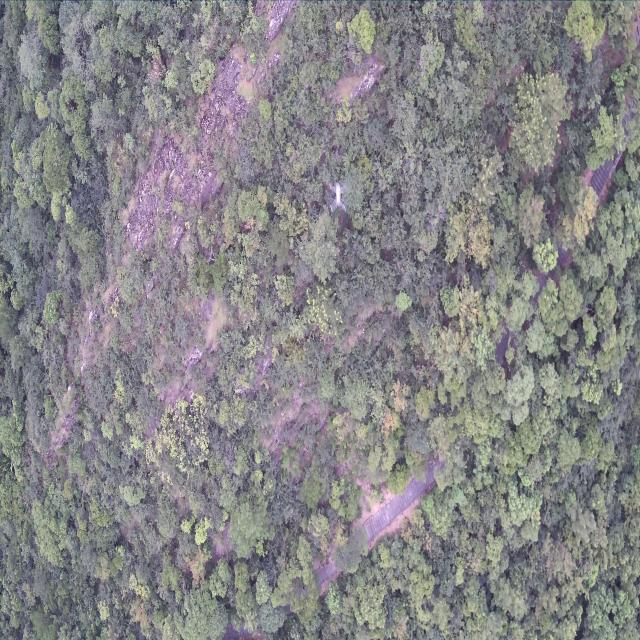UAV: (328, 182, 348, 213)
